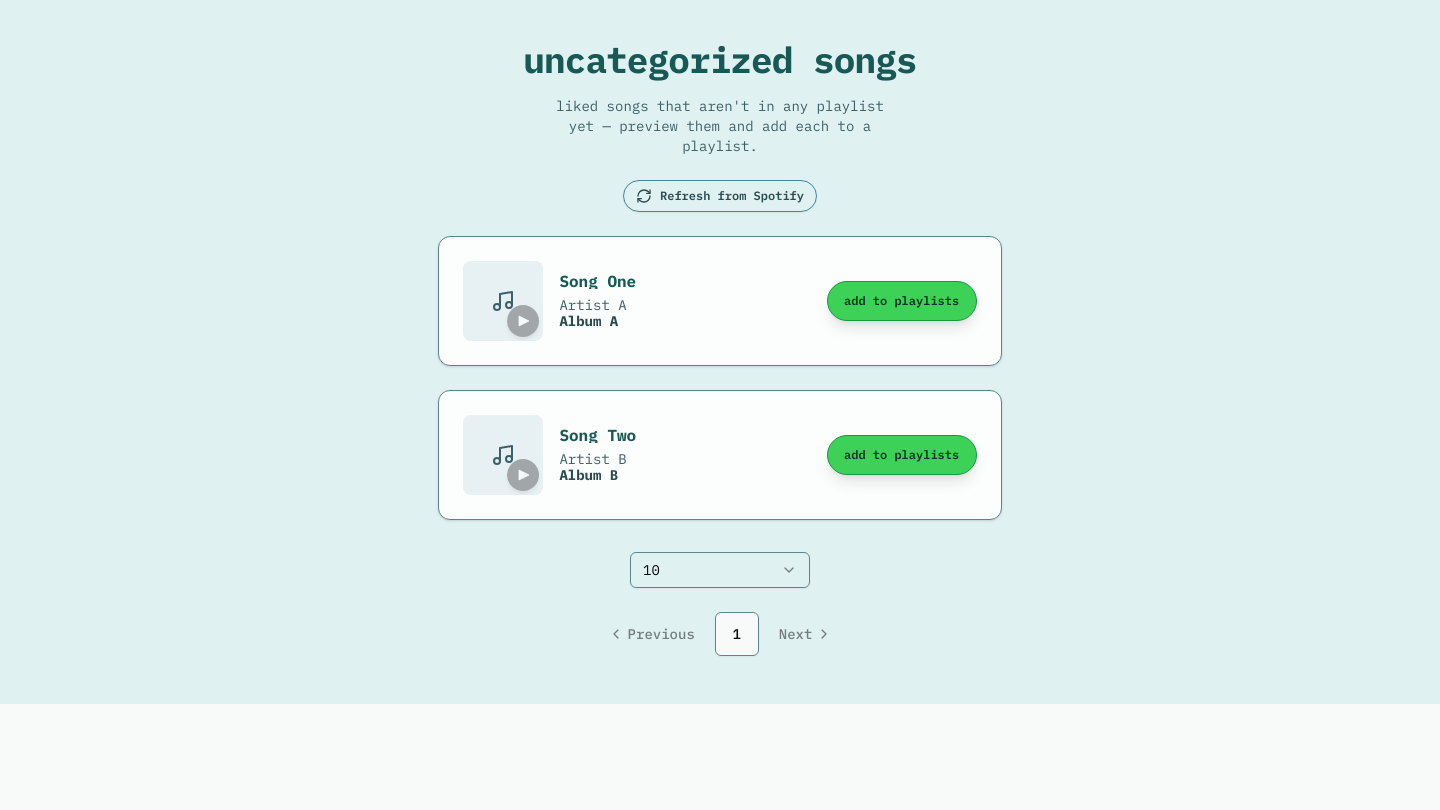
Scenario: Organize page — pin sharing across song cards › shows a playlist pinned from one song's dialog as pinned in another song's dialog
The width and height of the screenshot is (1440, 810).
Check: the heading "Song One" is shown, box [559, 273, 636, 289]
Check: the heading "Song Two" is shown, box [559, 427, 636, 443]
Click the button "add to playlists" in the row of "Song One" at (902, 301), box [827, 281, 977, 321]
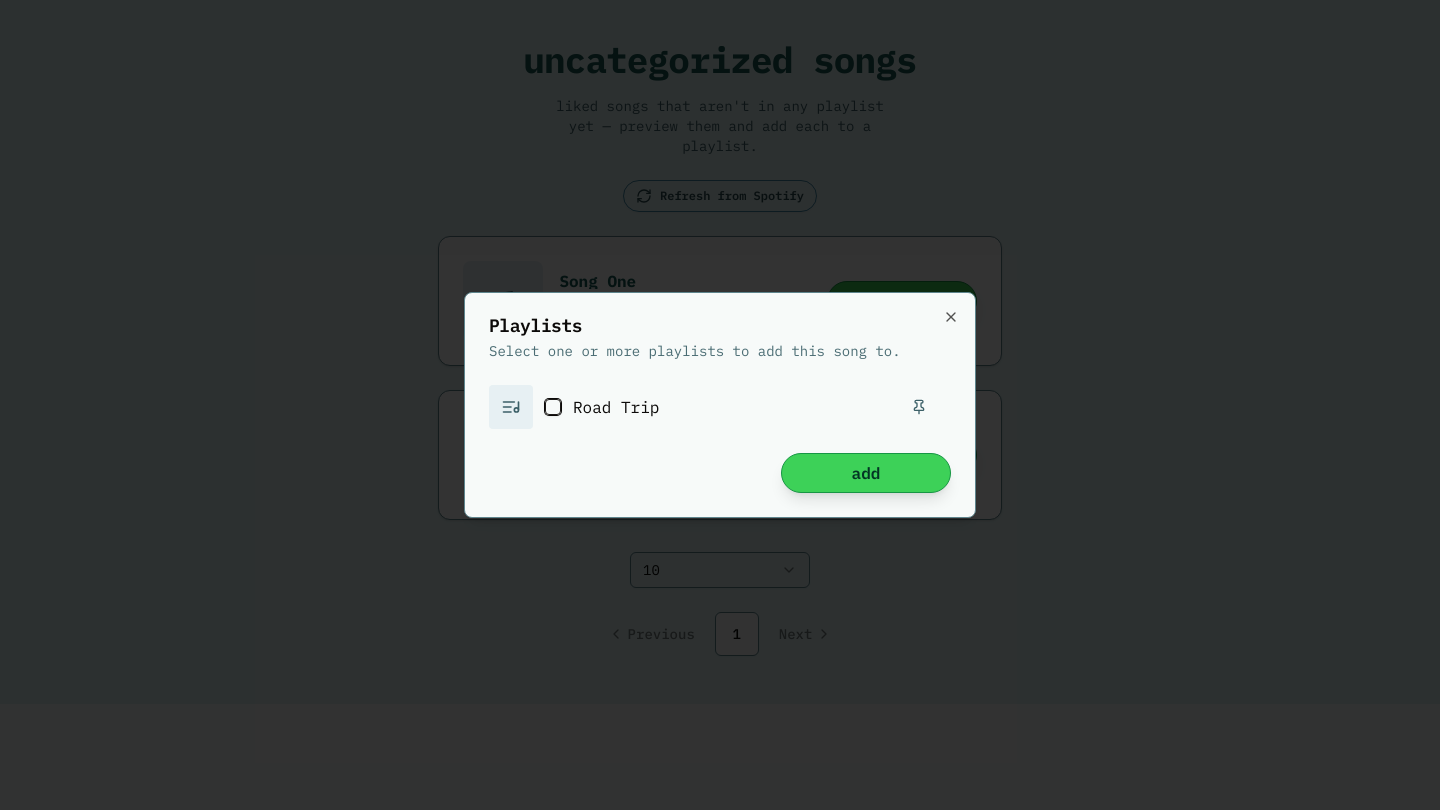
Click the button named "Pin Road Trip" at (919, 407), box [903, 391, 935, 423]
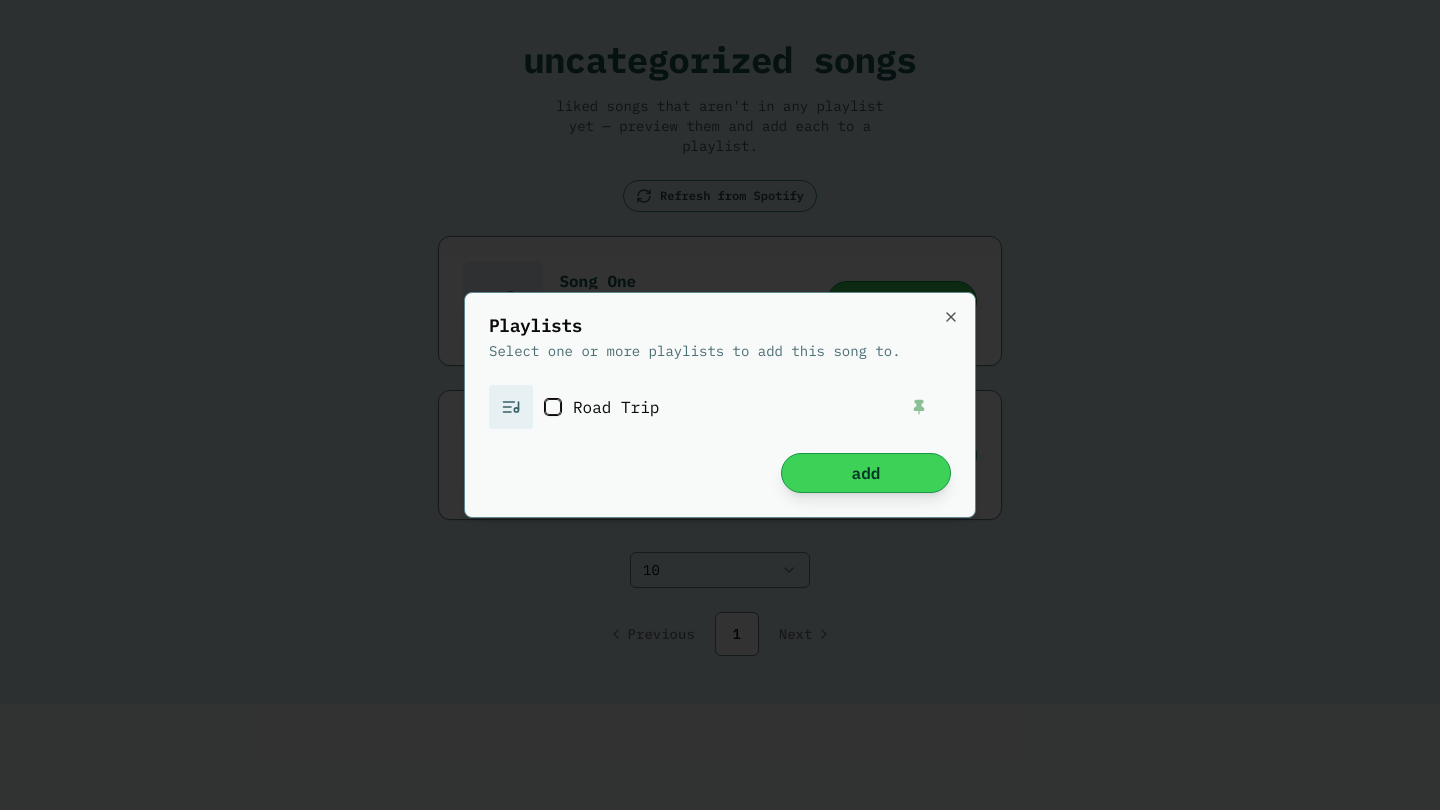
Check: the button named "Unpin Road Trip" is shown, box [903, 391, 935, 423]
Press Escape in the dialog, box [464, 292, 976, 518]
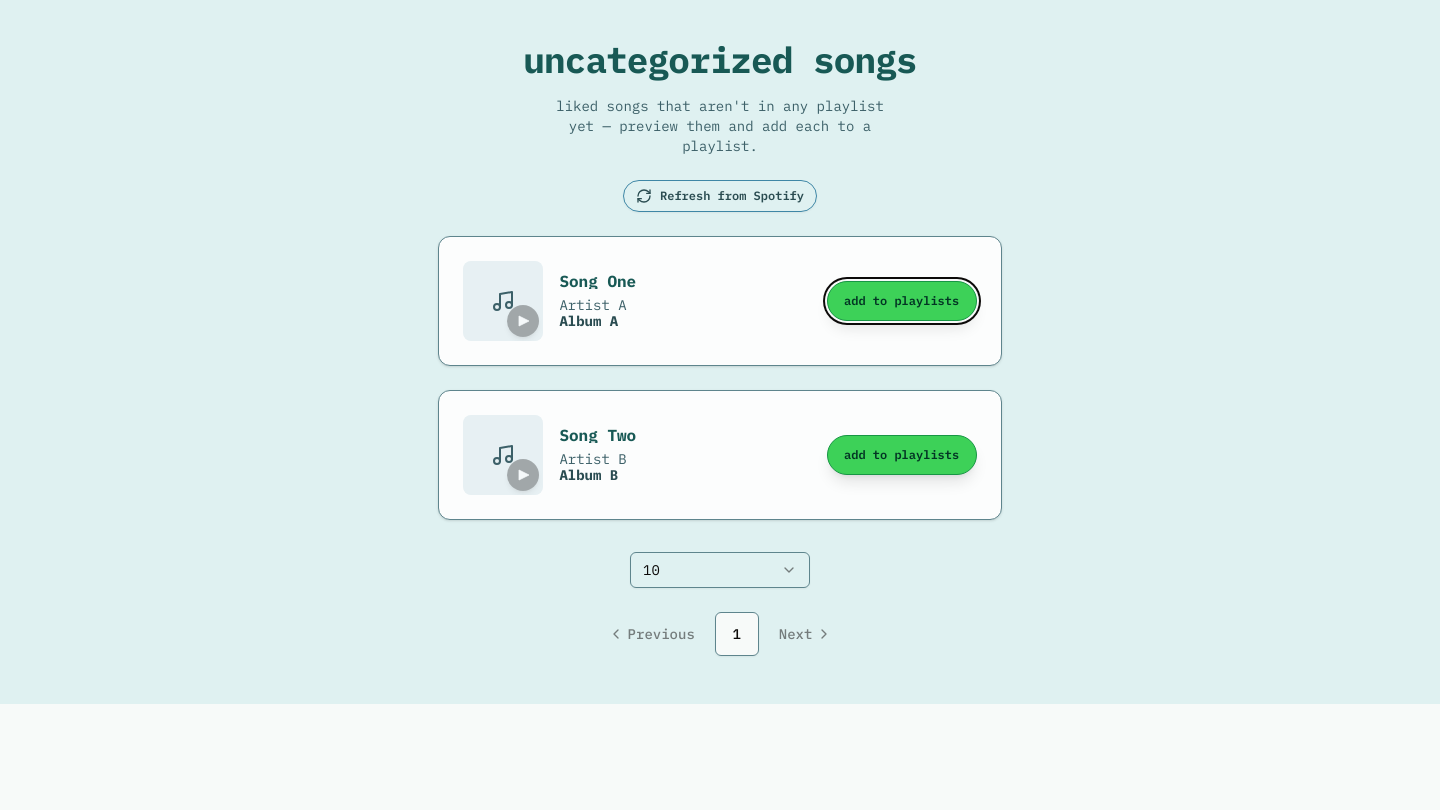
Check: the dialog is gone
Click the button "add to playlists" in the row of "Song Two" at (902, 455), box [827, 435, 977, 475]
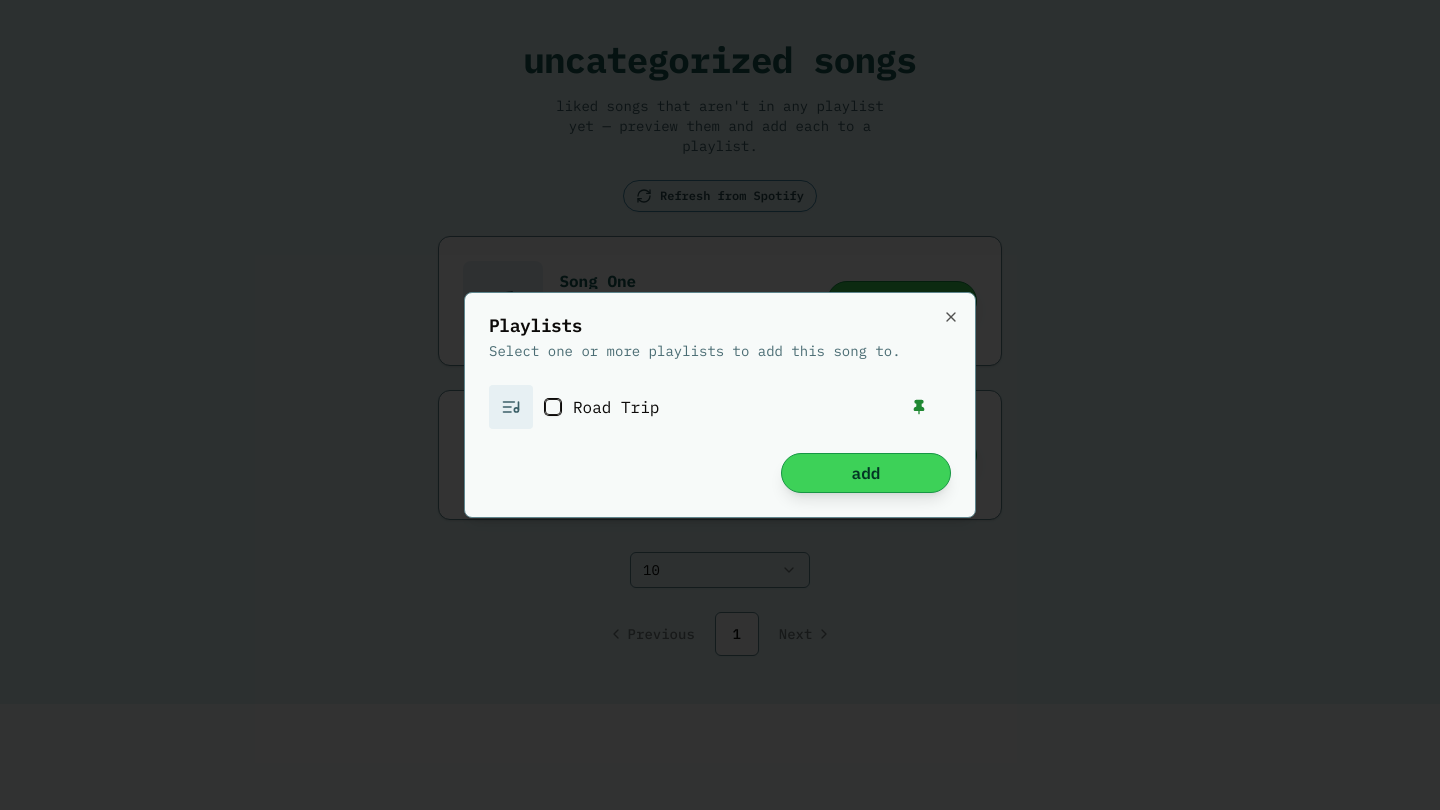
Check: the button named "Unpin Road Trip" is shown, box [903, 391, 935, 423]
